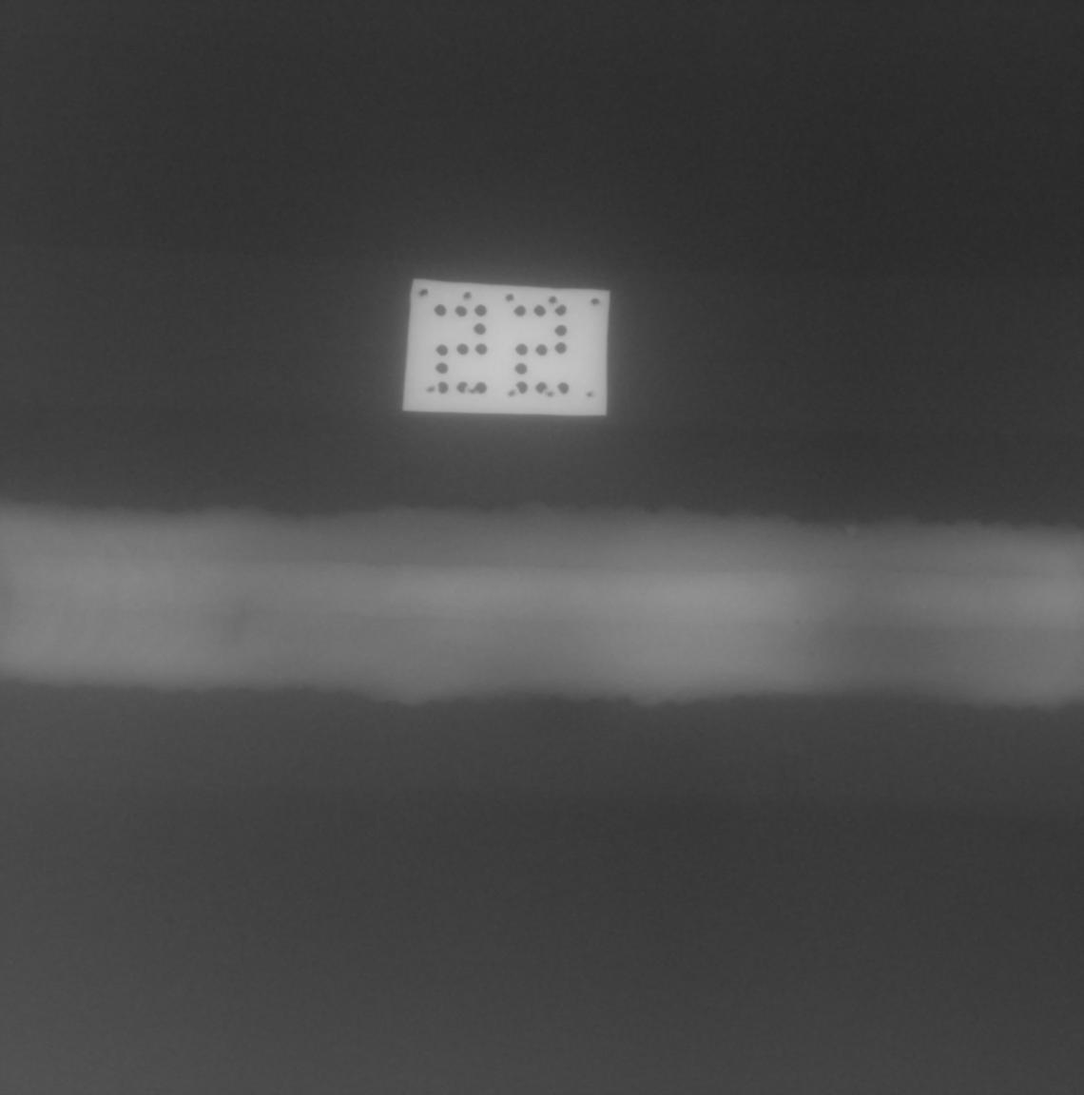Pore/Porosity: (795, 619, 801, 625)
